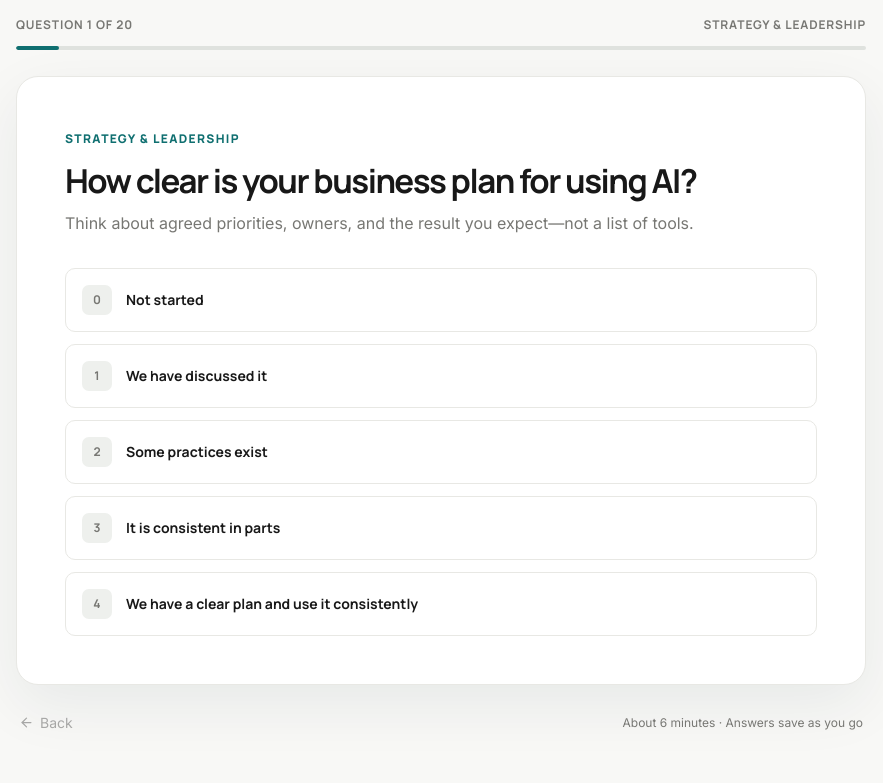
Test: ScorecardClient › moves to the next question after an owner chooses an answer
Expected: the text "Question 1 of 20" is shown, [16,16,133,33]
Click the button "4 We have a clear plan and use it consistently".
click(272, 604)  # box [65,572,817,636]
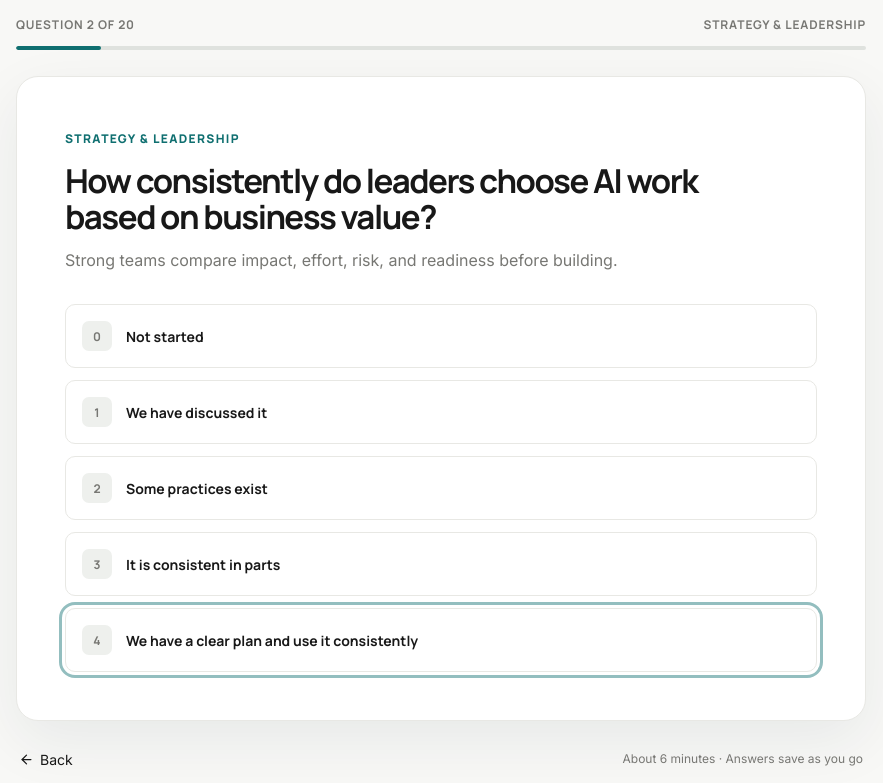
Expected: the text "Question 2 of 20" is shown, [16,16,135,33]
